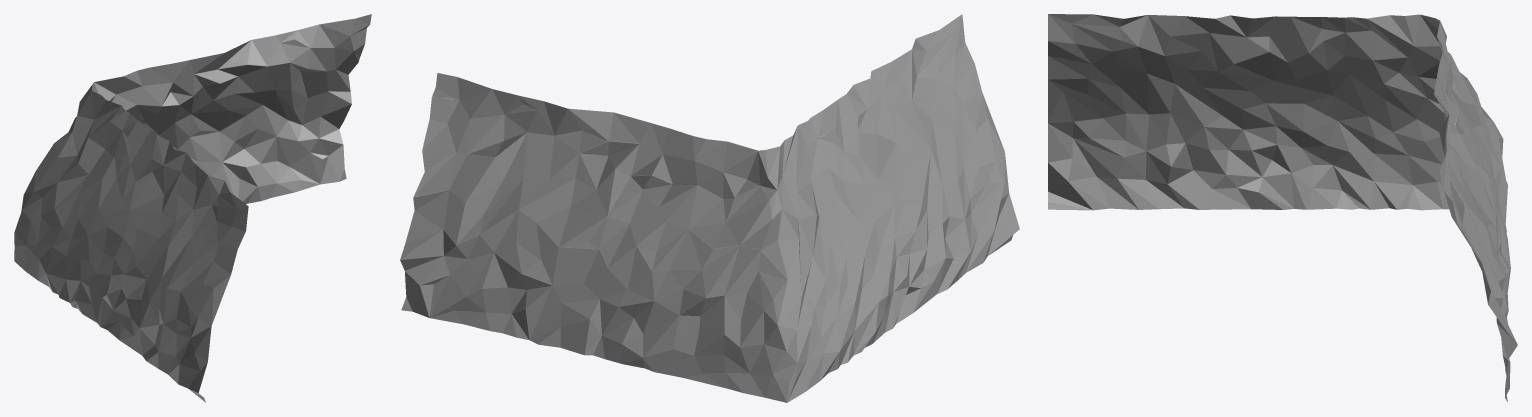
The model's file is MortisWalls1.fbx.
3 renders of one model, left to right at view 1: azimuth 30°, elevation 25°; view 2: azimuth 150°, elevation 25°; view 3: azimuth 270°, elevation 25°, orthographic. The views are drawn at different scales.
Visible parts, largest first — view 1: Plane_4; view 2: Plane_4; view 3: Plane_4.
Boxes of the visible parts, x1,y1,x2,y2 form: Plane_4: (14, 14, 371, 402); Plane_4: (400, 14, 1019, 402); Plane_4: (1048, 14, 1517, 402).
Bounding box in the file's own units: 3079 × 1600 × 3094.
1 material, 1 textured.
